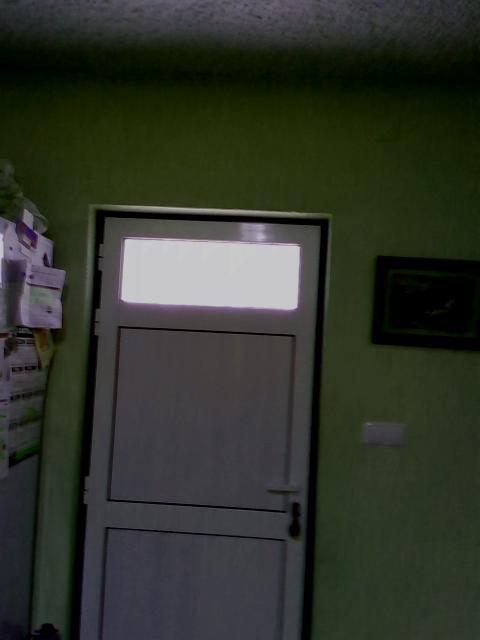closed_door: (74, 203, 332, 638)
